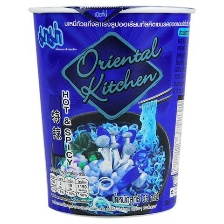paper_cup: (23, 0, 199, 220)
